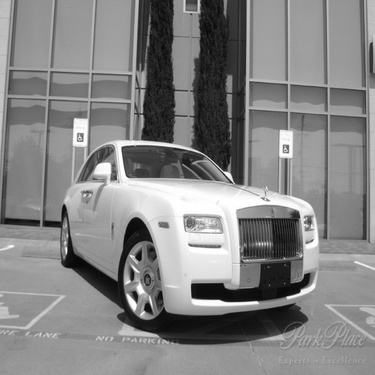car: (51, 134, 324, 327)
